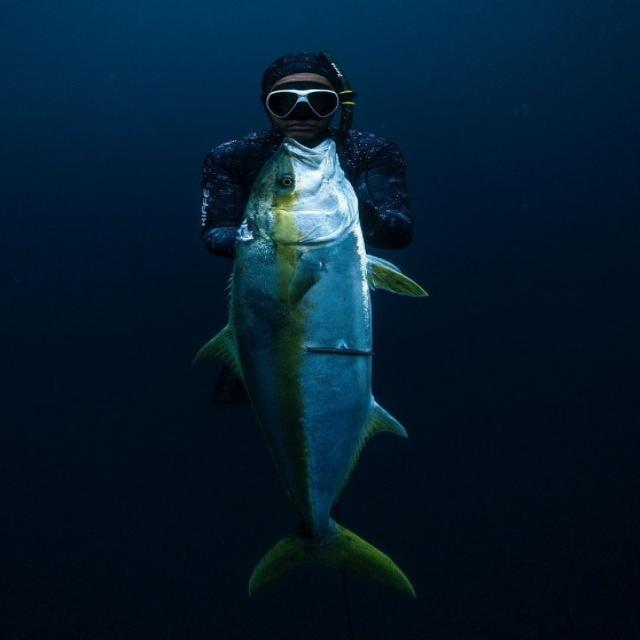Kingfish: (180, 132, 432, 616)
